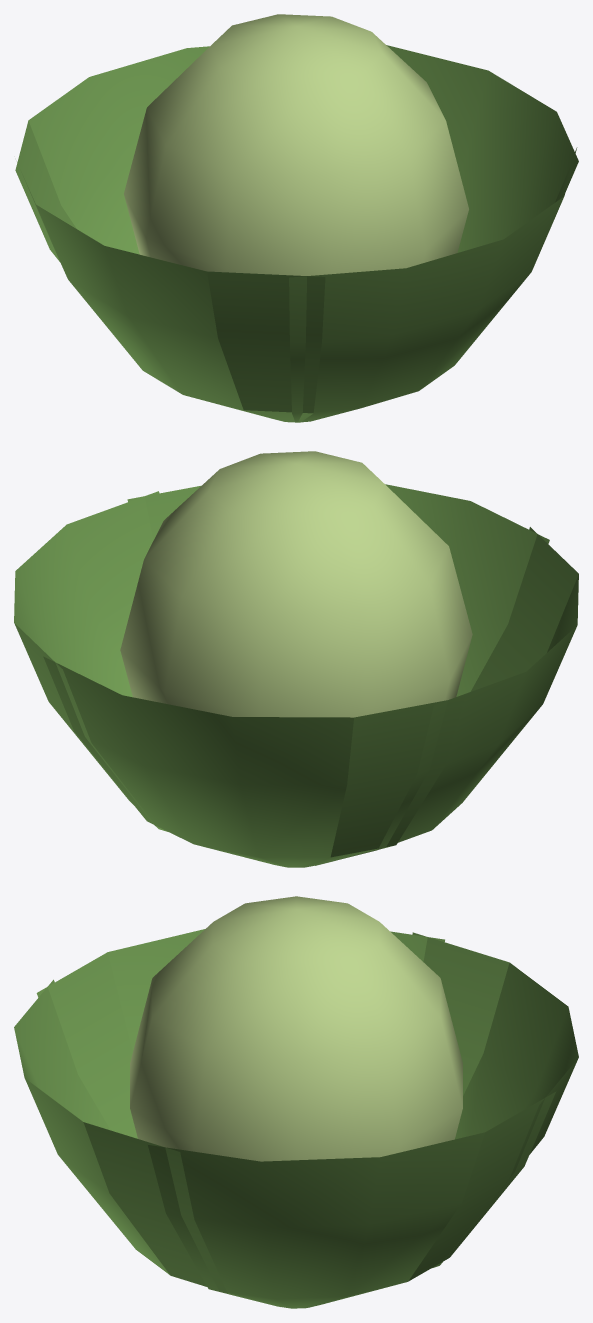
The model's file is cabbage.glb.
3 renders of one model, top to bottom at view 1: azimuth 30°, elevation 25°; view 2: azimuth 150°, elevation 25°; view 3: azimuth 270°, elevation 25°, orthographic. The views are drawn at different scales.
Visible parts, largest first — view 1: cabbage; view 2: cabbage; view 3: cabbage.
Part boxes in pixels (box(x1,y1,x2,y2)): cabbage: box(15, 14, 578, 422); cabbage: box(14, 451, 578, 867); cabbage: box(14, 896, 578, 1308).
Size of the model in its own units: 0.2325 by 0.1743 by 0.2325.
